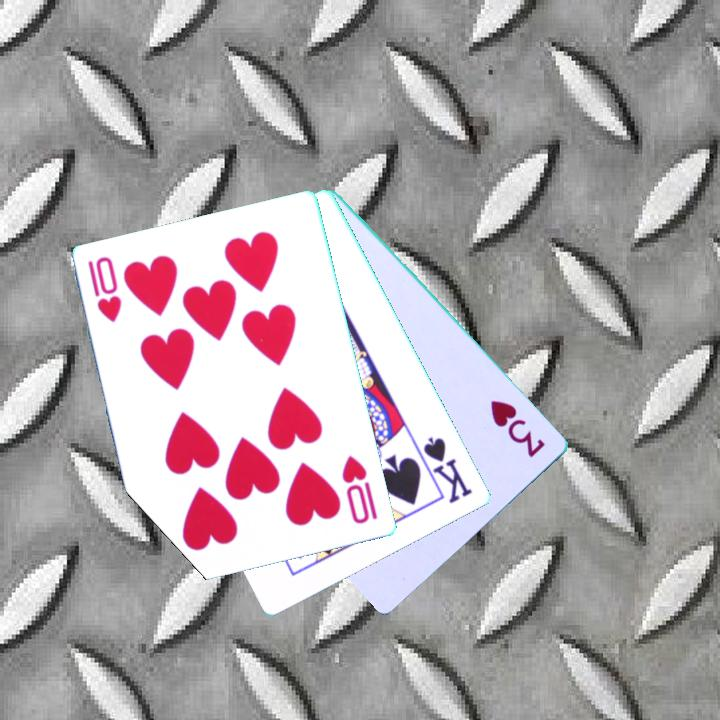10h: (338, 452, 381, 528), (85, 253, 125, 326)
3h: (487, 396, 549, 461)
Ks: (420, 433, 476, 507)
